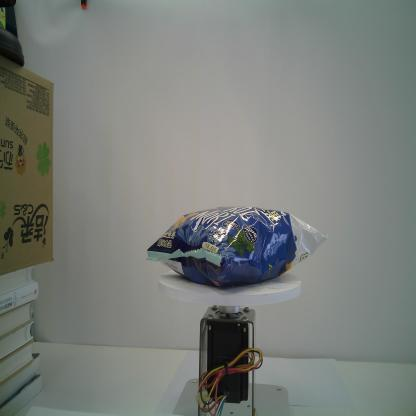Puffed Food: (146, 204, 329, 288)
